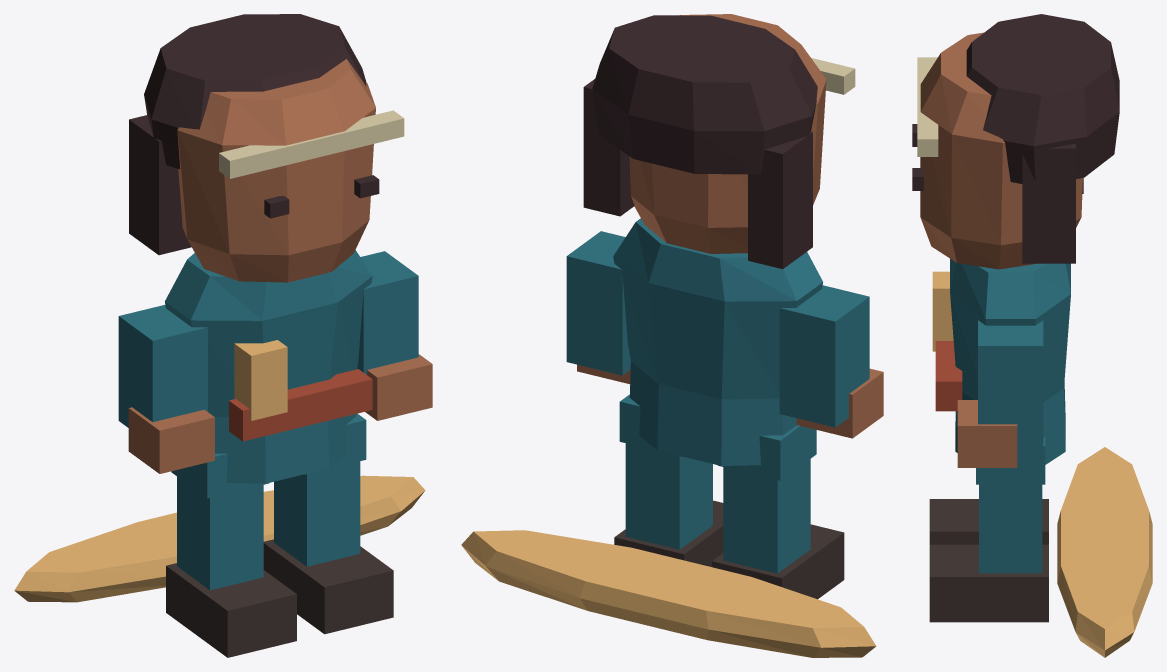
File: river-racer-model.obj
3 views of the same model, side by side, from view 1: azimuth 30°, elevation 25°; view 2: azimuth 150°, elevation 25°; view 3: azimuth 270°, elevation 25° (orthographic). The views are drawn at different scales.
Visible parts, largest first — view 1: RiverRacer; view 2: RiverRacer; view 3: RiverRacer.
Boxes of the visible parts, x1,y1,x2,y2 form: RiverRacer: [14, 14, 432, 657]; RiverRacer: [461, 14, 883, 657]; RiverRacer: [912, 14, 1152, 657].
Size of the model in its own units: 2.38 by 3.03 by 1.25.
